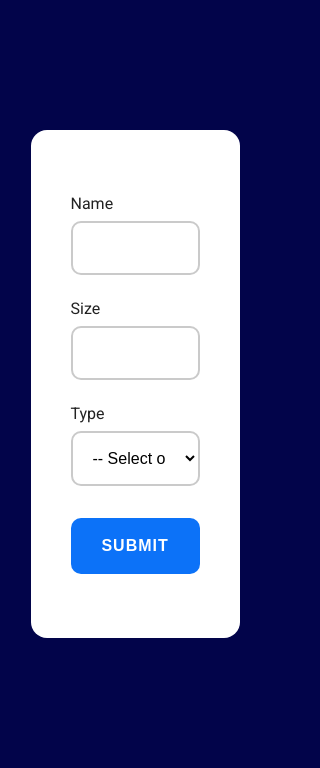
Test: When the user submits the form without values › Should show validation messages
Expected: the text "The size is required" is not shown
Expected: the text "The type is required" is not shown
Step 1. Click the button "Submit" → (135, 546), box [70,518,200,574]
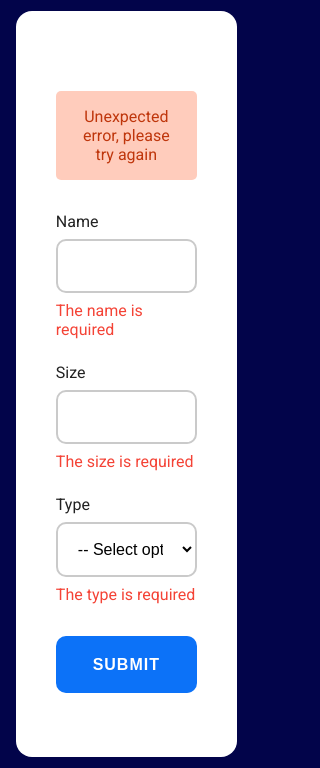
Expected: the text "The name is required" is shown, [56,301,143,339]
Expected: the text "The size is required" is shown, [56,452,197,471]
Expected: the text "The type is required" is shown, [56,585,197,604]
